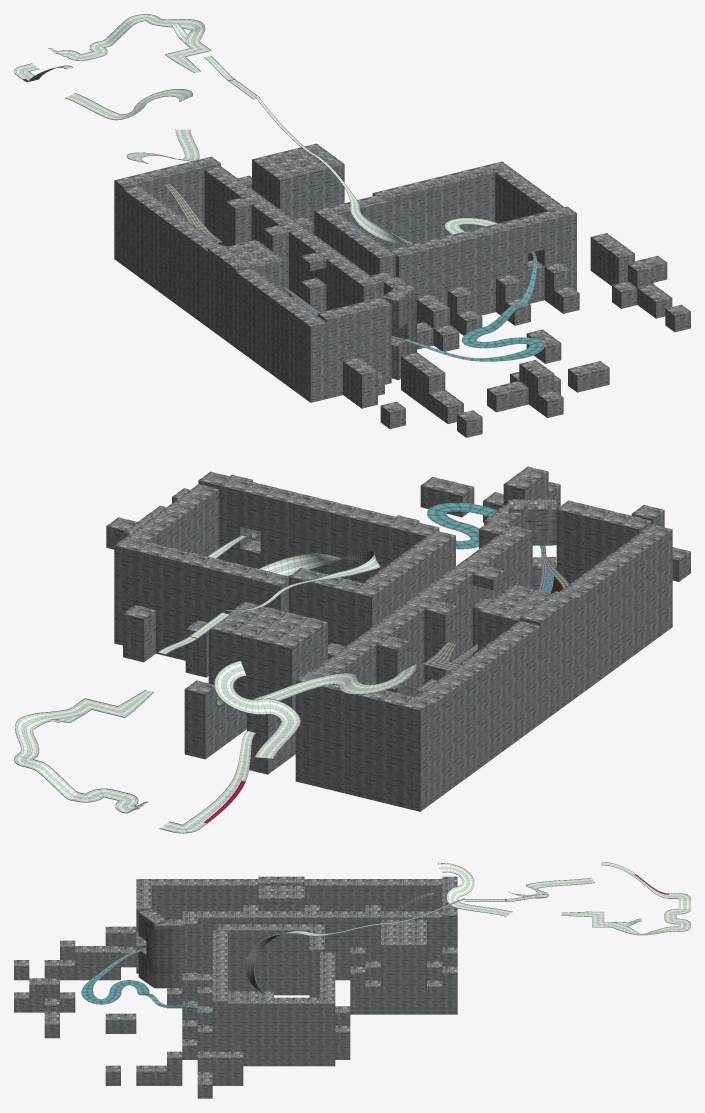
Rendered from Ordeal.obj.
3 renders of one model, top to bottom at view 1: azimuth 30°, elevation 25°; view 2: azimuth 150°, elevation 25°; view 3: azimuth 270°, elevation 25°, orthographic. The views are drawn at different scales.
Bounding box in the file's own units: 3650 × 1130 × 6640.
20 materials, 20 textured.
